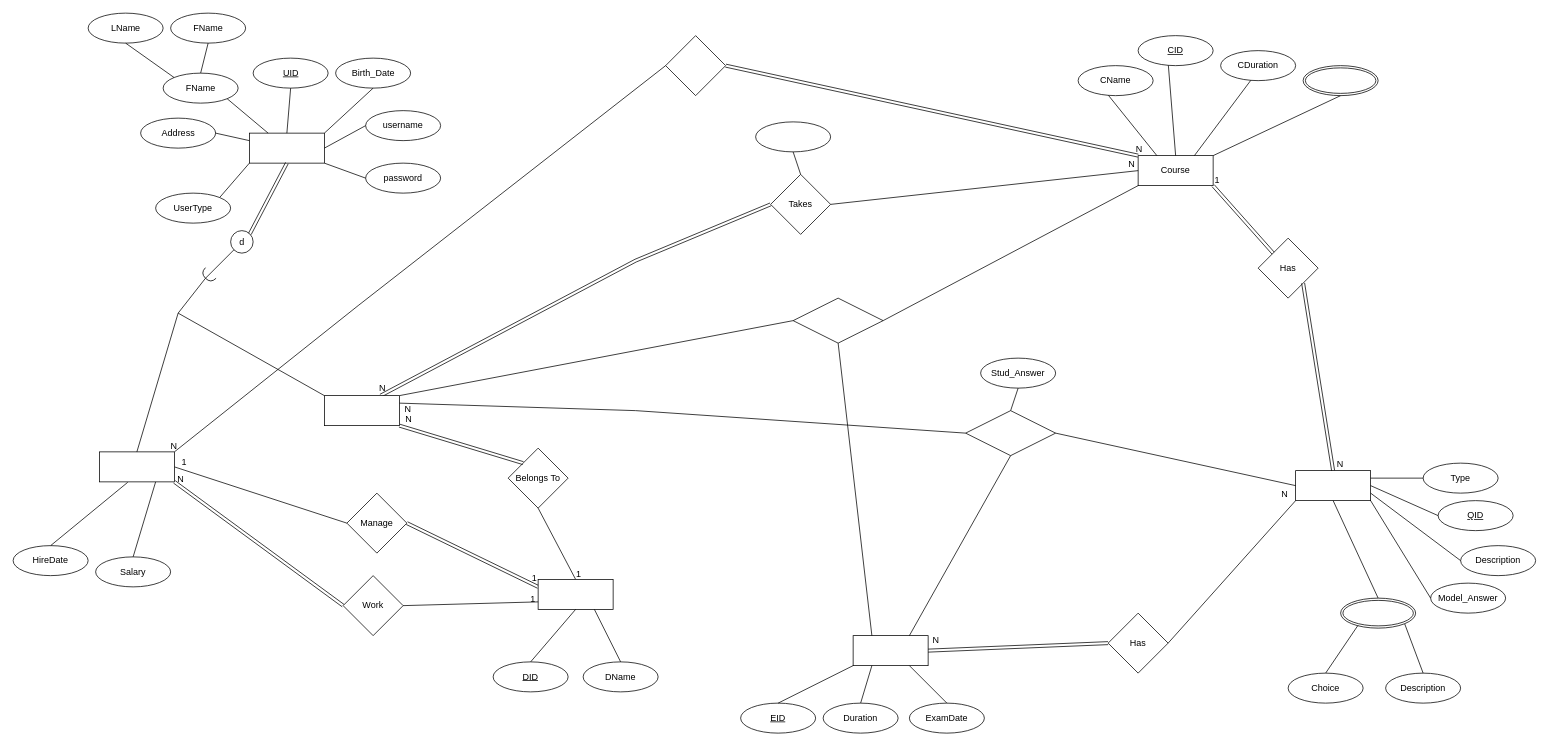
The diagram is 1549 pixels wide and 746 high, and some of its shapes have lost their labels. The shapes that lost their labels are listed below. From the top down, each one's centre as x and y in pixels, then its label:
At point 695,65: "Teach".
At point 1340,80: "Topics".
At point 286,147: "User".
At point 793,136: "Grade".
At point 837,320: "Perform".
At point 361,410: "Student".
At point 1010,433: "Has Questions".
At point 136,466: "Instructor".
At point 1333,485: "Question".
At point 575,594: "Department".
At point 1378,612: "Choices".
At point 890,650: "Exam".
